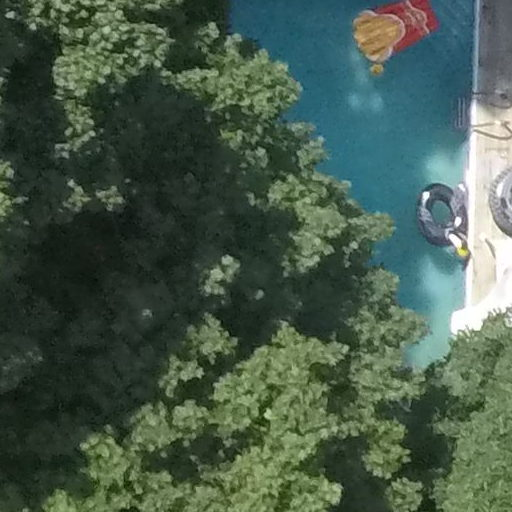pool: (213, 1, 493, 384)
toy: (352, 1, 440, 79), (422, 173, 478, 272)
